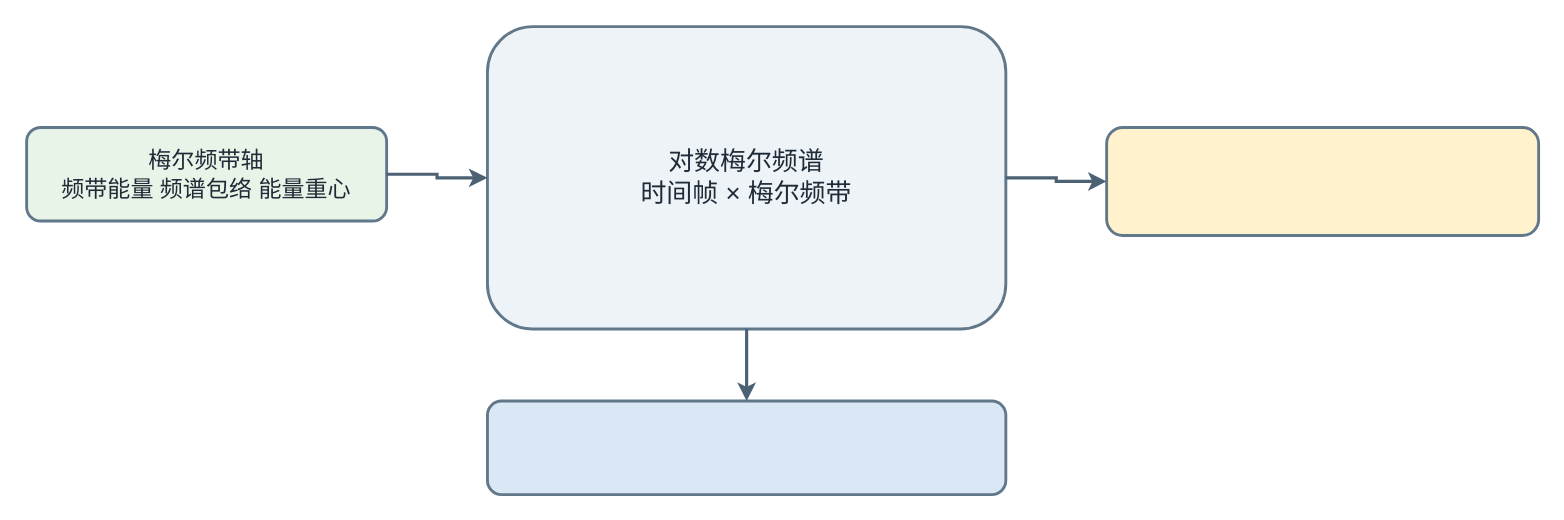
Some shapes in this 1564 by 520 pixel diagram are drawn without their labels. Each missing label, with the box of its shape:
情绪相关局部线索 短时变化与频带分布相互关联: (1104, 125, 1539, 236)
时间轴 能量起伏 停顿 语调变化: (485, 399, 1007, 495)
